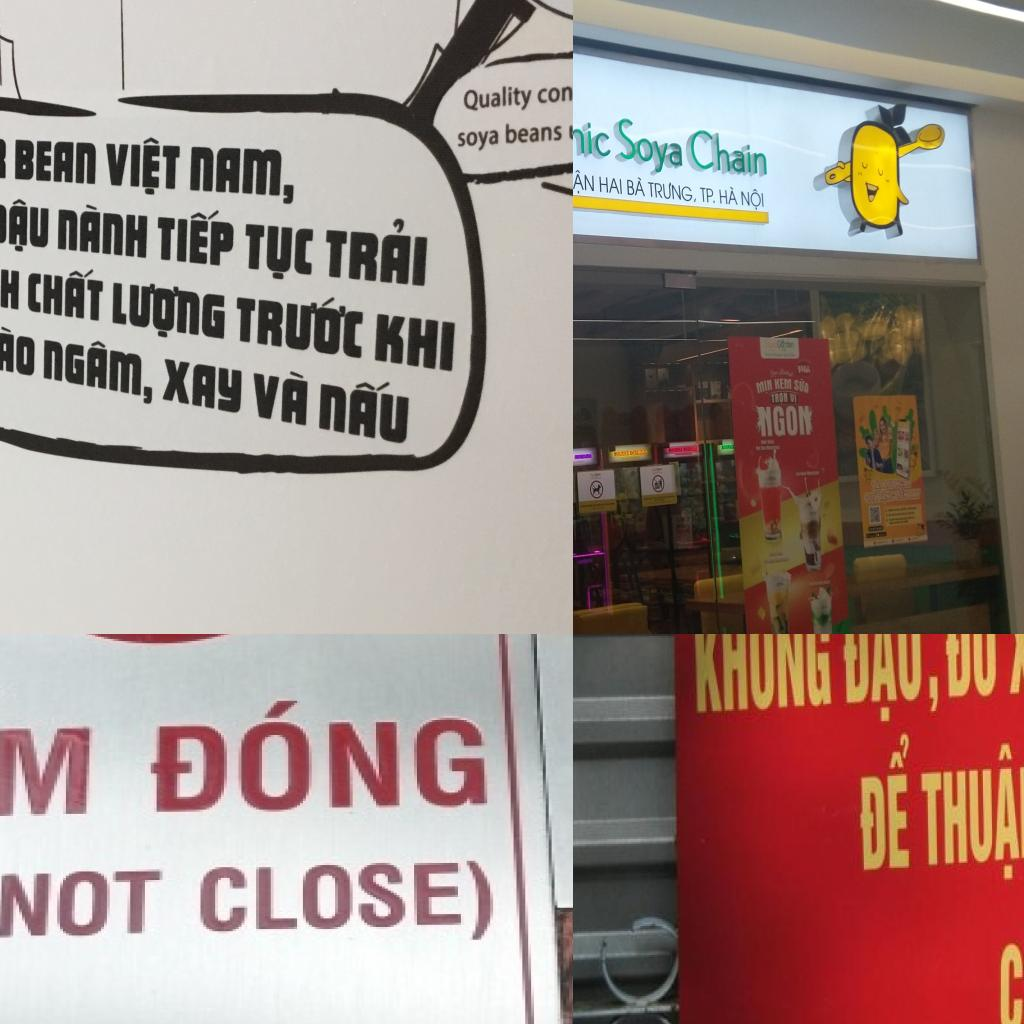text: (145, 699, 493, 816), (919, 736, 1024, 886), (0, 694, 92, 824), (692, 634, 834, 718), (0, 869, 165, 939), (840, 634, 943, 728), (235, 289, 364, 360), (855, 730, 913, 874), (43, 333, 155, 407), (112, 278, 226, 346), (324, 216, 428, 287), (318, 372, 410, 446), (189, 147, 295, 207), (155, 205, 235, 272), (57, 202, 147, 260), (686, 121, 770, 182), (374, 313, 456, 373), (105, 134, 180, 198), (28, 262, 104, 324), (612, 117, 684, 181), (161, 360, 243, 414), (244, 223, 314, 286), (942, 634, 999, 700), (14, 140, 96, 185), (253, 364, 308, 428), (998, 907, 1024, 1024), (0, 196, 49, 255), (573, 97, 612, 168), (462, 84, 534, 113), (756, 404, 812, 439), (0, 321, 34, 377), (505, 119, 563, 145), (646, 179, 698, 204), (0, 263, 20, 317), (1007, 634, 1024, 697), (536, 76, 573, 104), (456, 128, 499, 152), (738, 186, 768, 212), (573, 165, 596, 196), (598, 173, 624, 197), (625, 174, 648, 198), (718, 184, 740, 207), (698, 183, 717, 206), (754, 378, 774, 398), (794, 377, 811, 396), (774, 377, 792, 392), (770, 392, 789, 406), (877, 490, 896, 504), (776, 338, 796, 350), (864, 490, 880, 505), (895, 488, 909, 502), (895, 478, 912, 489), (882, 478, 896, 490), (908, 488, 922, 500), (797, 364, 812, 375), (871, 478, 883, 490), (789, 392, 798, 406)
